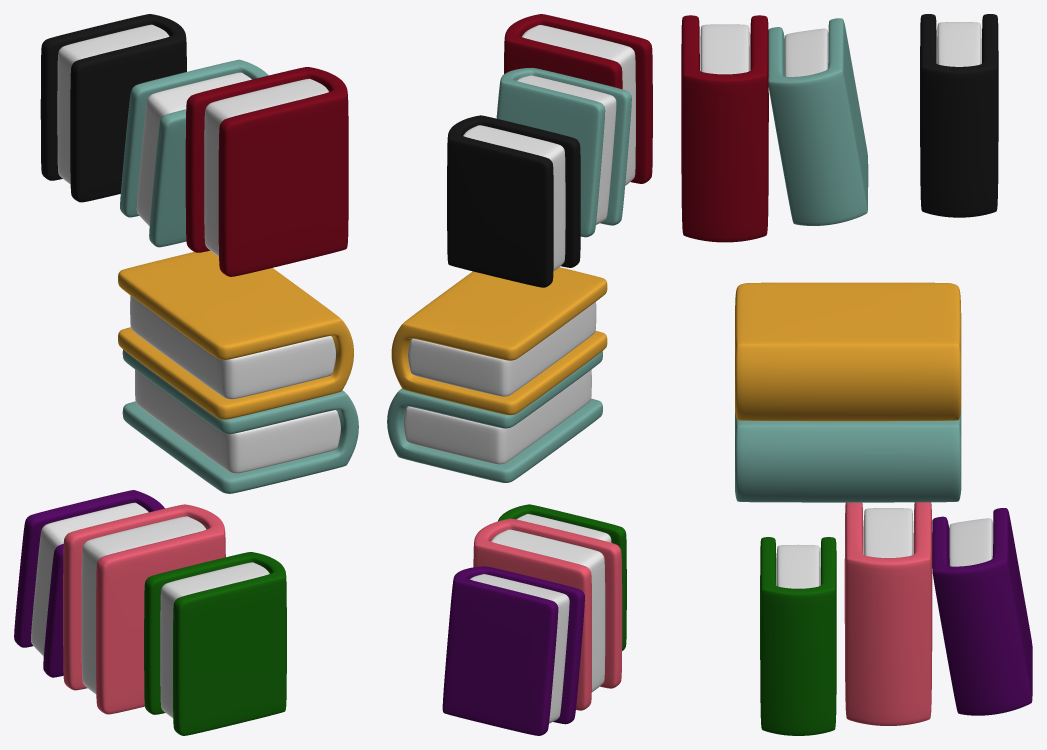
File: Books.glb
3 views of the same model, side by side, from view 1: azimuth 30°, elevation 25°; view 2: azimuth 150°, elevation 25°; view 3: azimuth 270°, elevation 25° (orthographic). The views are drawn at different scales.
Parts seen in each view (by area): view 1: Plane.030, Plane.044, Plane.040, Plane.036, Plane.034, Plane.042, Plane.032, Plane.043, Plane.041, Plane.038, Plane.029, Plane.035 (+4 smaller); view 2: Plane.038, Plane.034, Plane.044, Plane.032, Plane.036, Plane.042, Plane.030, Plane.043, Plane.041, Plane.035, Plane.029, Plane.033 (+4 smaller); view 3: Plane.044, Plane.042, Plane.030, Plane.036, Plane.038, Plane.032, Plane.034, Plane.040, Plane.035, Plane.029, Plane.033, Plane.037 (+2 smaller).
Part boxes in pixels (box(x1,y1,x2,y2)): Plane.030: box(185, 67, 348, 276); Plane.044: box(118, 250, 353, 419); Plane.040: box(144, 552, 286, 735); Plane.036: box(63, 504, 225, 714); Plane.034: box(40, 14, 186, 202); Plane.042: box(122, 349, 358, 493); Plane.032: box(120, 59, 268, 247); Plane.043: box(130, 295, 335, 399); Plane.041: box(135, 369, 340, 473); Plane.038: box(14, 490, 164, 677); Plane.029: box(204, 78, 328, 256); Plane.035: box(81, 516, 206, 694); Plane.038: box(442, 566, 584, 735); Plane.034: box(447, 115, 580, 287); Plane.044: box(391, 267, 607, 415); Plane.032: box(496, 67, 631, 237); Plane.036: box(473, 518, 622, 710); Plane.042: box(387, 351, 602, 482); Plane.030: box(504, 14, 652, 183); Plane.043: box(408, 302, 596, 396); Plane.041: box(403, 369, 591, 464); Plane.035: box(491, 529, 605, 692); Plane.029: box(522, 25, 635, 185); Plane.033: box(463, 125, 565, 271); Plane.044: box(735, 282, 961, 421); Plane.042: box(735, 409, 961, 502); Plane.030: box(681, 15, 768, 242); Plane.036: box(844, 502, 932, 725); Plane.038: box(932, 508, 1032, 715); Plane.032: box(768, 18, 868, 225); Plane.034: box(920, 14, 998, 217); Plane.040: box(760, 537, 836, 735); Plane.035: box(863, 508, 913, 557); Plane.029: box(700, 24, 749, 74); Plane.033: box(937, 22, 981, 66); Plane.037: box(949, 518, 993, 566).
Bounding box in the file's own units: 1.09 × 3.21 × 1.52.
